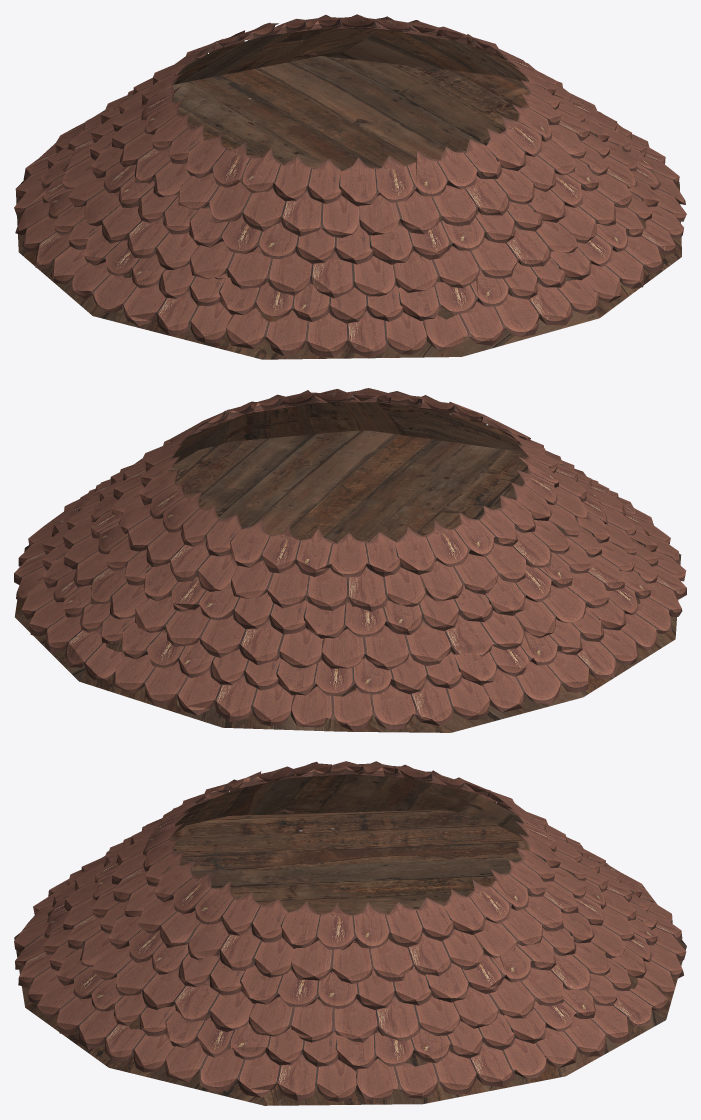
The model's file is second_roof_LOD4.fbx.
3 views of the same model, one above another, from view 1: azimuth 30°, elevation 25°; view 2: azimuth 150°, elevation 25°; view 3: azimuth 270°, elevation 25° (orthographic).
Visible parts, largest first — view 1: Cylinder.013; view 2: Cylinder.013; view 3: Cylinder.013.
Part boxes in pixels (<box>): Cylinder.013: <box>14,14,686,359</box>; Cylinder.013: <box>14,388,686,732</box>; Cylinder.013: <box>14,761,686,1105</box>.
Size of what is drawn, in the model's own units: 218 by 50.02 by 219.
